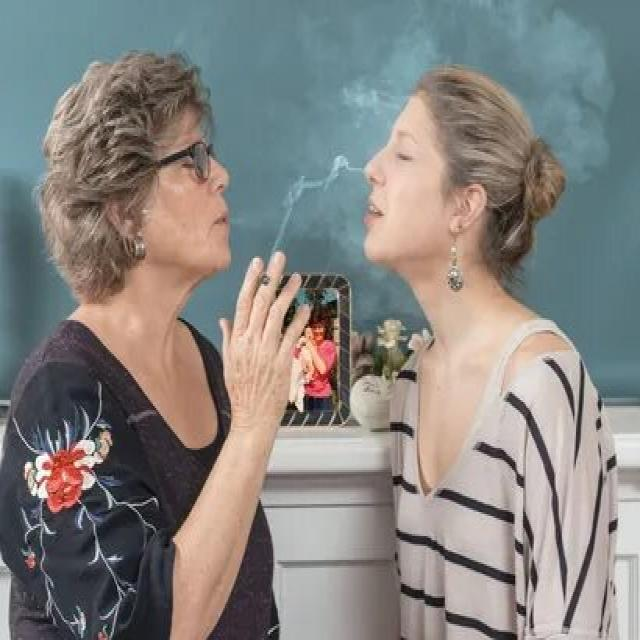cigarette: (256, 268, 275, 290)
